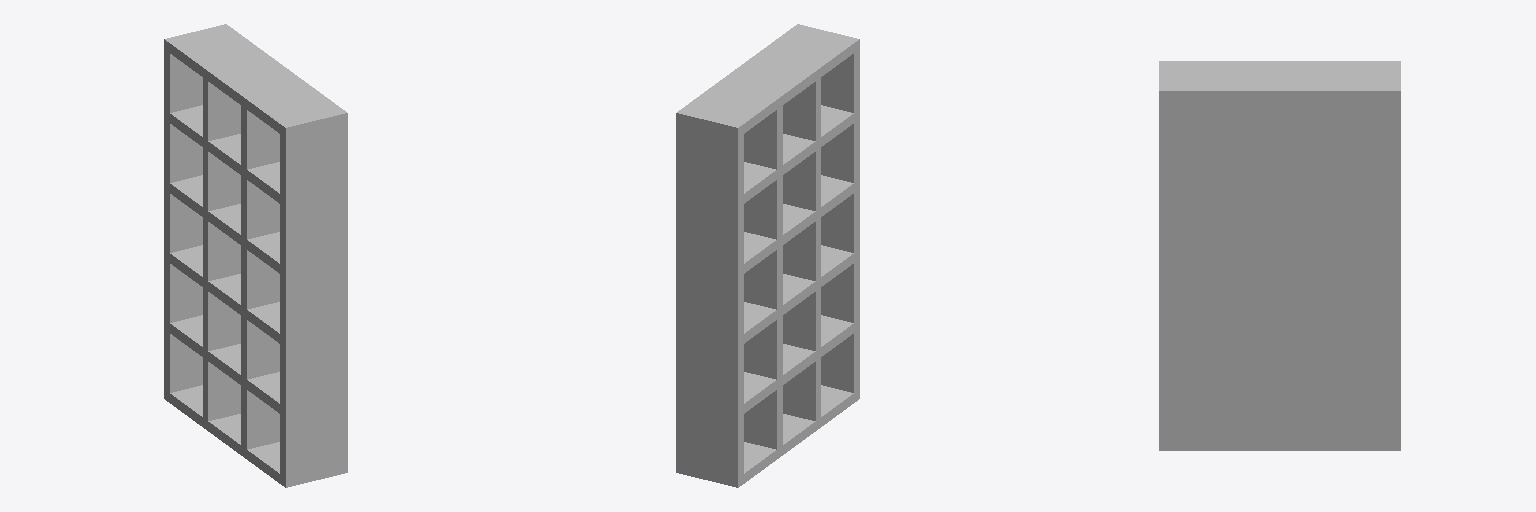
File: bookshelf.vox.obj
3 renders of one model, left to right at view 1: azimuth 30°, elevation 25°; view 2: azimuth 150°, elevation 25°; view 3: azimuth 270°, elevation 25°, orthographic.
Parts seen in each view (by area): view 1: object 1; view 2: object 1; view 3: object 1.
Boxes of the visible parts, x1=… form: object 1: x1=164, y1=24, x2=347, y2=487; object 1: x1=676, y1=24, x2=859, y2=487; object 1: x1=1159, y1=61, x2=1400, y2=450.
Size of the model in its own units: 1.3 by 7.2 by 4.4.